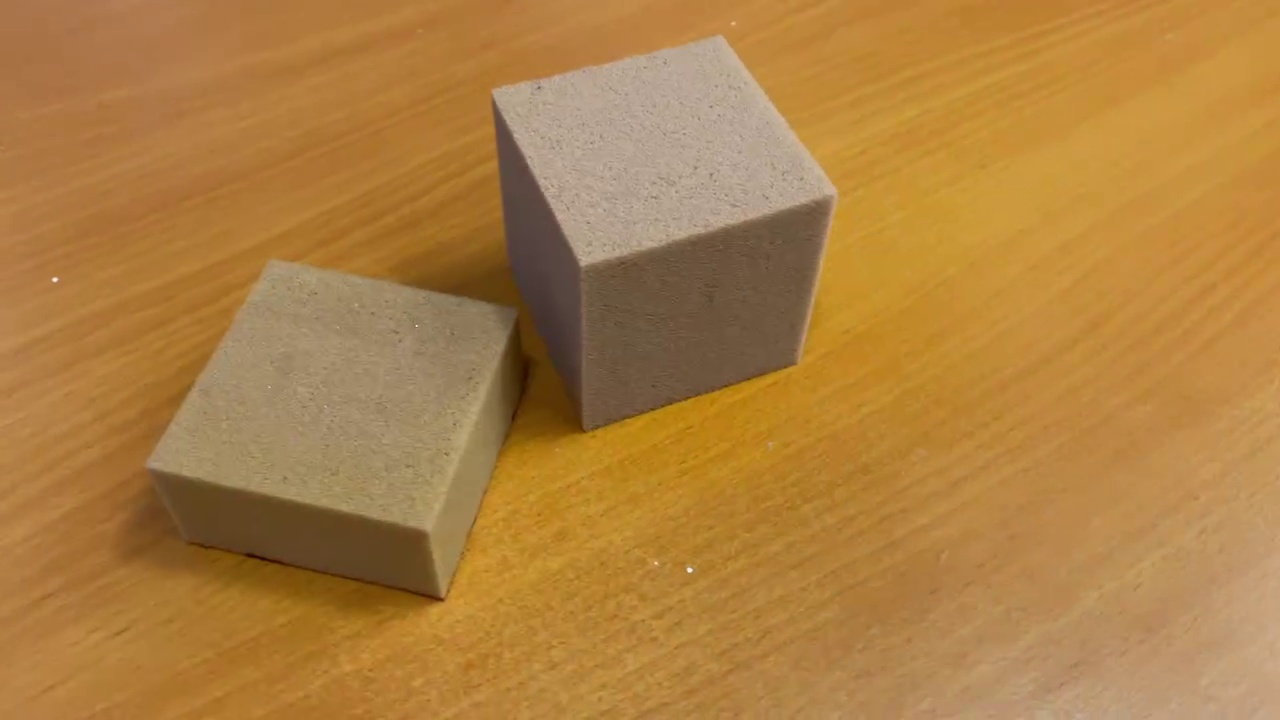Cube: (478, 25, 843, 441)
Cube_short: (139, 248, 529, 604)
